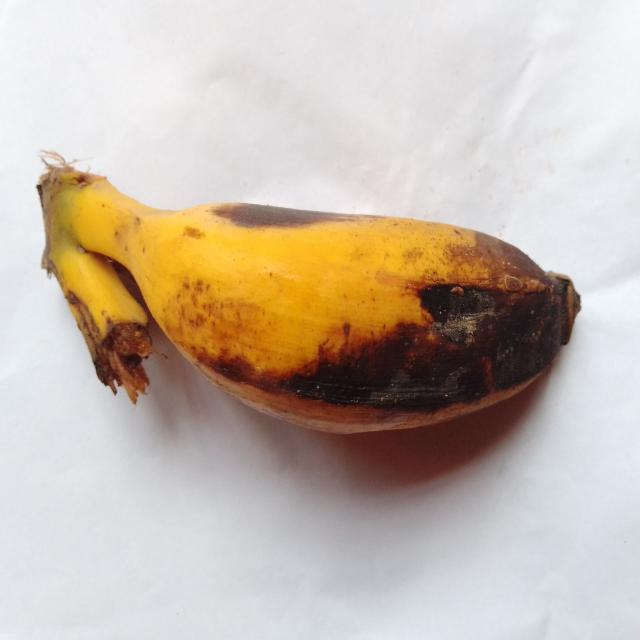banana: (39, 164, 579, 432)
